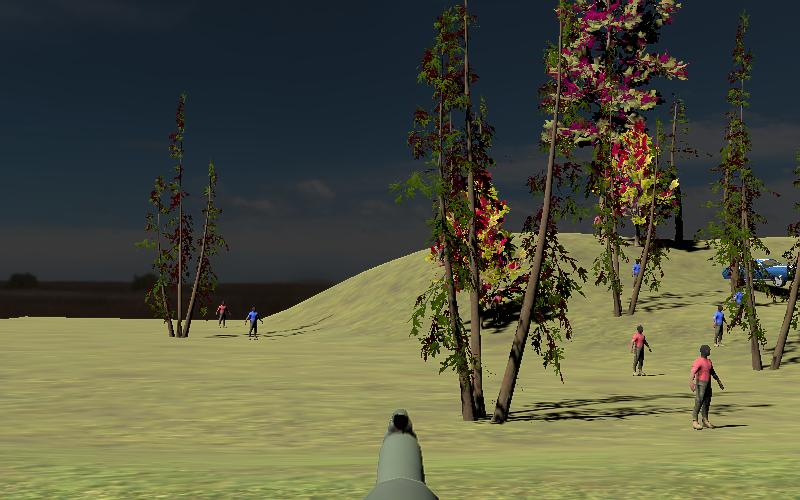Human: (690, 344, 724, 429), (631, 325, 651, 377), (245, 304, 263, 341), (713, 304, 728, 348), (216, 299, 231, 329)
car: (721, 257, 797, 288)
